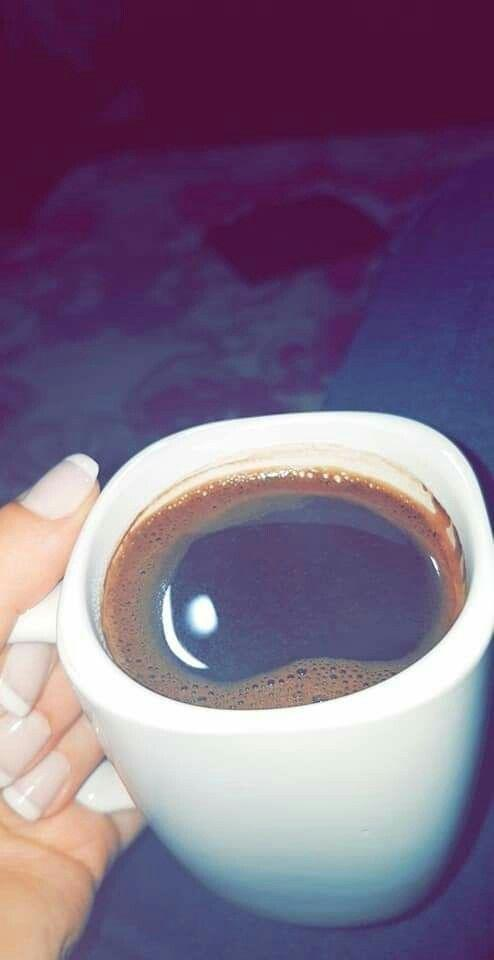cup-handle: (0, 406, 494, 932)
